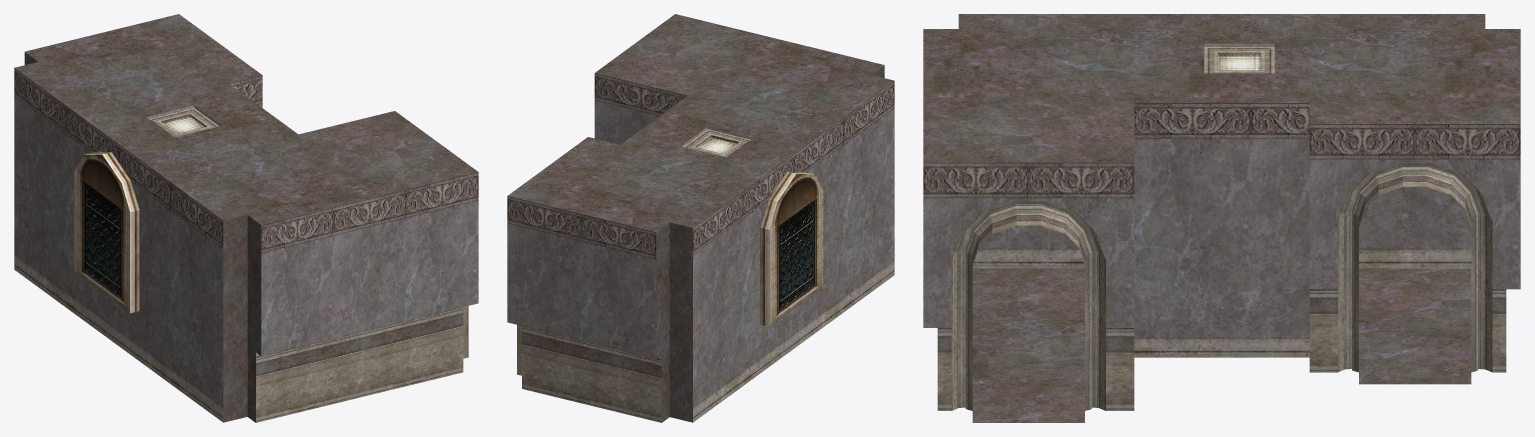
File: ply_corl_capitol_s01_r1_hall1_mesh_r1.fbx
The picture shows the model from 3 angles, left to right: view 1: azimuth 30°, elevation 25°; view 2: azimuth 150°, elevation 25°; view 3: azimuth 270°, elevation 25°; orthographic projection. The views are drawn at different scales.
Parts seen in each view (by area): view 1: mesh_node; view 2: mesh_node; view 3: mesh_node.
Boxes of the visible parts, x1,y1,x2,y2 form: mesh_node: [14, 14, 478, 422]; mesh_node: [507, 14, 894, 422]; mesh_node: [923, 14, 1520, 422].
Size of the model in its own units: 5.4 by 4 by 8.5.
